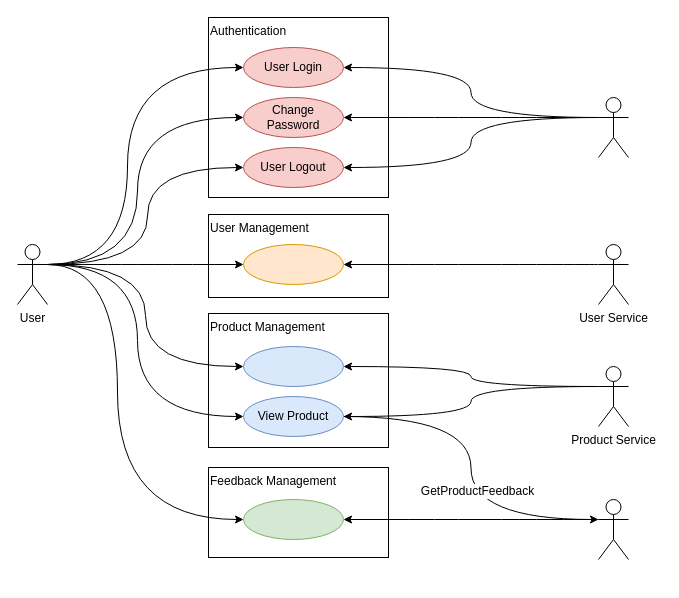
Image size: 679x598. Some labels were removed from this diagram. The centre of each missing label's shape, as x and y in pixels:
"Add Comment" goes at pixel 293 519.
"Feedback Service" goes at pixel 613 529.
"List Products" goes at pixel 293 366.
"Update Details" goes at pixel 293 264.
"User Auth Service" goes at pixel 613 127.
